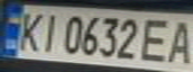0: (57, 12, 84, 55)
2: (115, 15, 145, 62)
3: (100, 13, 121, 60)
6: (78, 12, 103, 57)
A: (163, 16, 193, 65)
E: (139, 16, 175, 64)
I: (36, 10, 63, 53)
K: (12, 8, 48, 53)
